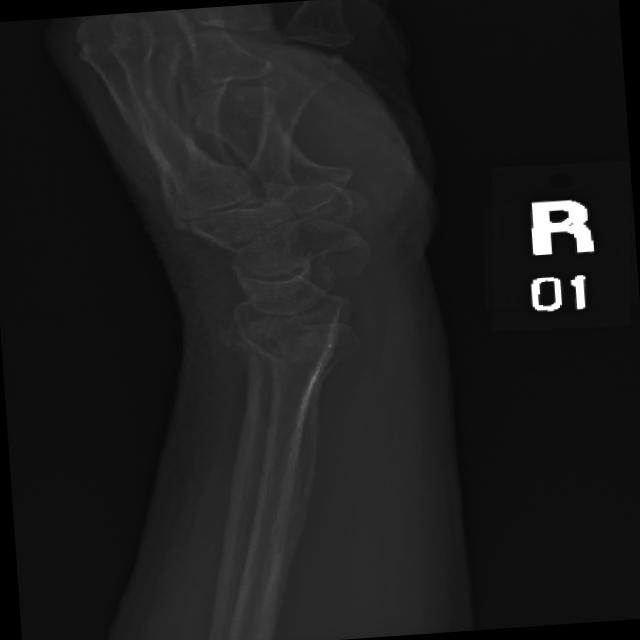fingers positive: (203, 291, 395, 386)
